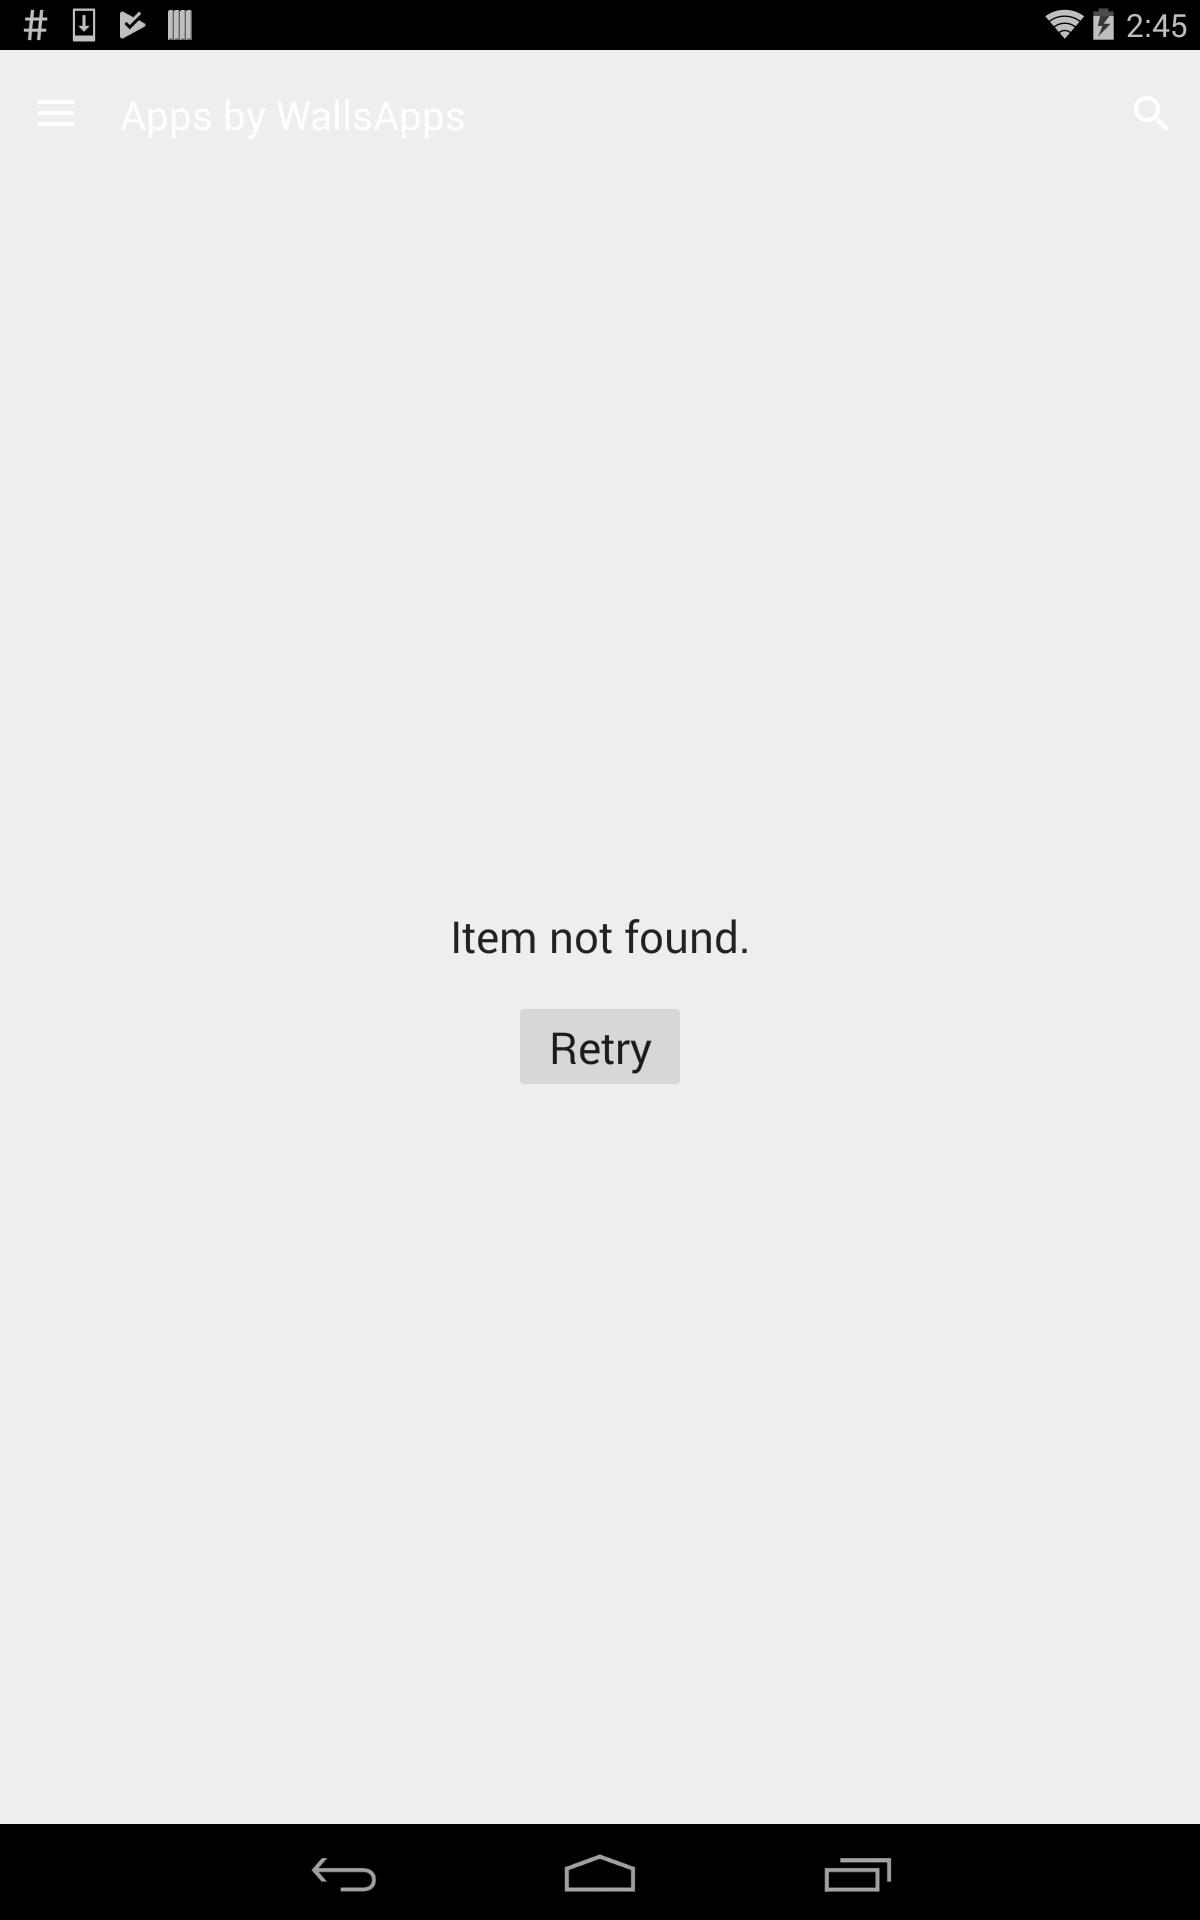android.support.v4.widget.DrawerLayout: (0, 50, 1200, 1825)
android.support.v7.widget.db: (1105, 50, 1200, 178)
android.view.View: (0, 50, 1200, 178)
android.widget.Button: (512, 997, 688, 1096)
android.widget.FrameLayout: (0, 0, 1200, 1825), (0, 50, 1200, 1825), (0, 178, 1200, 1825), (0, 50, 1200, 178)
android.widget.ImageButton: (0, 50, 112, 178)
android.widget.LinearLayout: (0, 0, 1200, 1825), (0, 178, 1200, 1825)
android.widget.TextView: (0, 905, 1200, 965), (120, 87, 467, 141), (1105, 66, 1200, 162)
